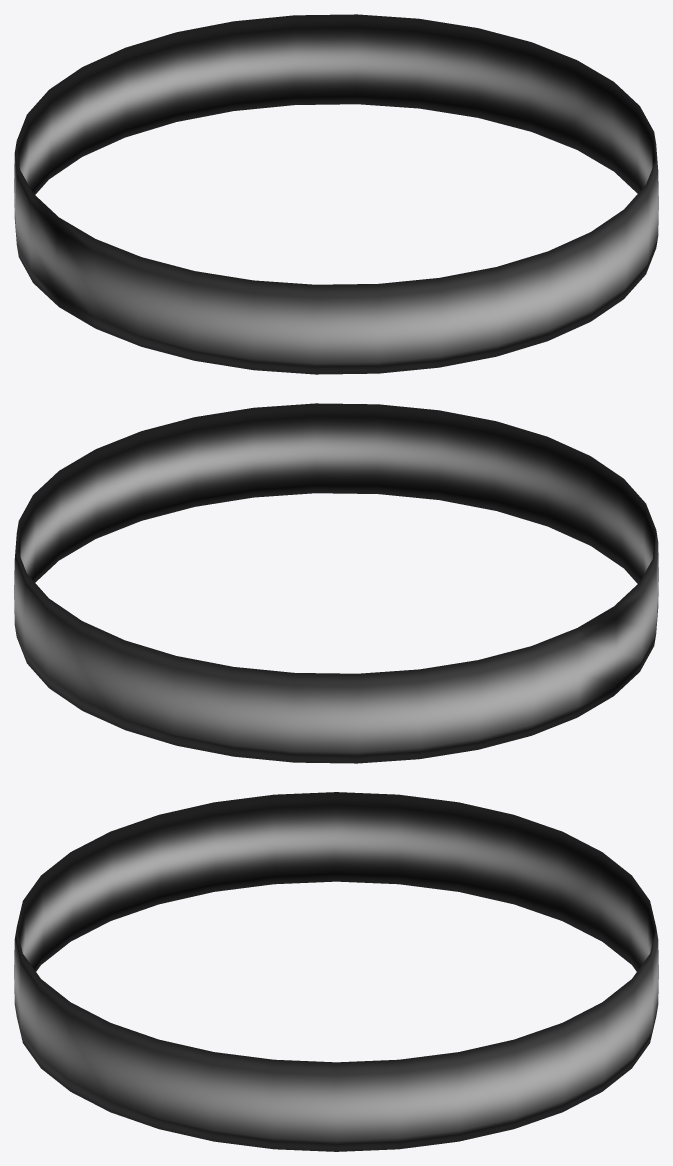
Rendered from ScrollingTExtureBase.fbx.
3 renders of one model, top to bottom at view 1: azimuth 30°, elevation 25°; view 2: azimuth 150°, elevation 25°; view 3: azimuth 270°, elevation 25°, orthographic.
Parts seen in each view (by area): view 1: Circle.015; view 2: Circle.015; view 3: Circle.015.
Boxes of the visible parts, bbox=[...] form: Circle.015: bbox=[14, 14, 658, 374]; Circle.015: bbox=[14, 403, 658, 763]; Circle.015: bbox=[14, 792, 658, 1151].
Bounding box in the file's own units: 195 × 29.86 × 195.
